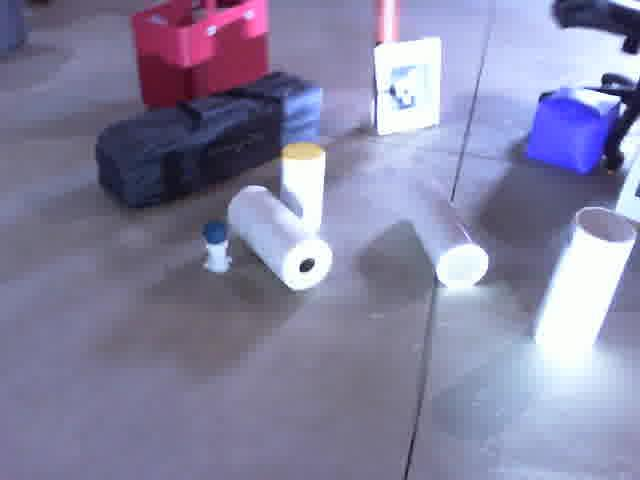coral: (528, 193, 640, 356), (398, 168, 494, 292)
